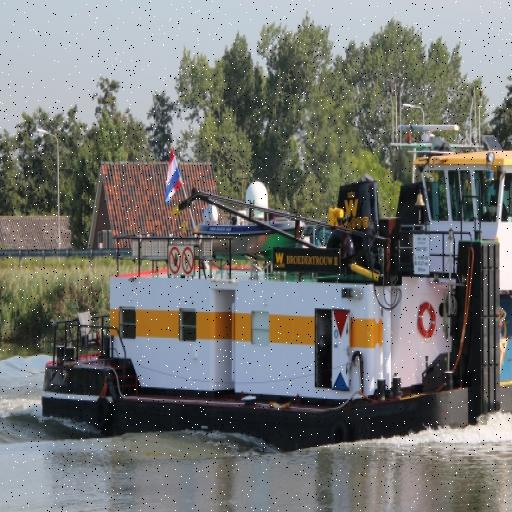tugboat: (37, 119, 512, 460)
